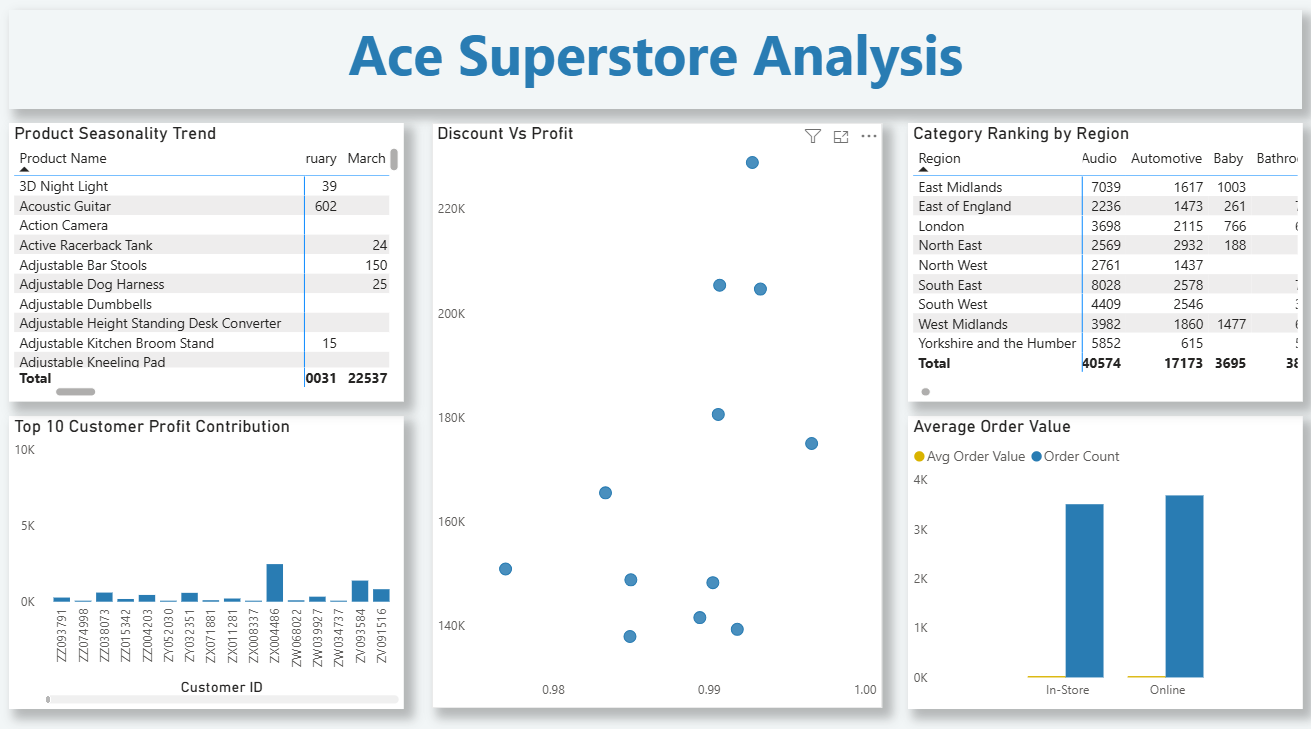

This screenshot's page, from the dashboard's own definition file:
{"tool":"powerbi","page":{"name":"Page 1","canvas":[1280,720],"ordinal":0},"visuals":[{"type":"textbox","box":[10.1,16.8,1258.1,96],"z":0},{"type":"columnChart","title":"Top 10 Customer Profit Contribution","fields":{"Category":["Sheet1.Customer ID"],"Y":["Sheet1.Total Profit"]},"box":[10.1,410.9,384,284.6],"z":1000},{"type":"pivotTable","title":"Product Seasonality Trend","fields":{"Rows":["Sheet1.Product Name"],"Columns":["Sheet1.Order Date.Variation.Date Hierarchy.Month"],"Values":["Sheet1.Total Sales"]},"box":[10.1,126.3,384,271.2],"z":2000},{"type":"scatterChart","title":"Discount Vs Profit","fields":{"Category":["Sheet1.Order Date.Variation.Date Hierarchy.Month"],"Y":["Sheet1.Total Profit"],"X":["Sheet1.Avg Discount %"]},"box":[421.1,126.3,437.9,569.3],"z":3000},{"type":"lineClusteredColumnComboChart","title":"Average Order Value","fields":{"Category":["Sheet1.Order Mode"],"Y":["Sheet1.Avg Order Value","Sheet1.Order Count"]},"box":[884.2,410.9,384,284.6],"z":4000},{"type":"pivotTable","title":"Category Ranking by Region","fields":{"Rows":["Sheet1.Region"],"Columns":["Sheet1.Category"],"Values":["Sheet1.Total Profit"]},"box":[884.2,126.3,384,271.2],"z":5000}]}

Visuals, with their boxes in screenshot pixels (x1, y1, x2, y2), scaled from the page's 1280x720 canvas onto the 1311x729 screenshot:
textbox: region(10, 17, 1299, 114)
"Top 10 Customer Profit Contribution" columnChart: region(10, 416, 404, 704)
"Product Seasonality Trend" pivotTable: region(10, 128, 404, 402)
"Discount Vs Profit" scatterChart: region(431, 128, 880, 704)
"Average Order Value" lineClusteredColumnComboChart: region(906, 416, 1299, 704)
"Category Ranking by Region" pivotTable: region(906, 128, 1299, 402)
